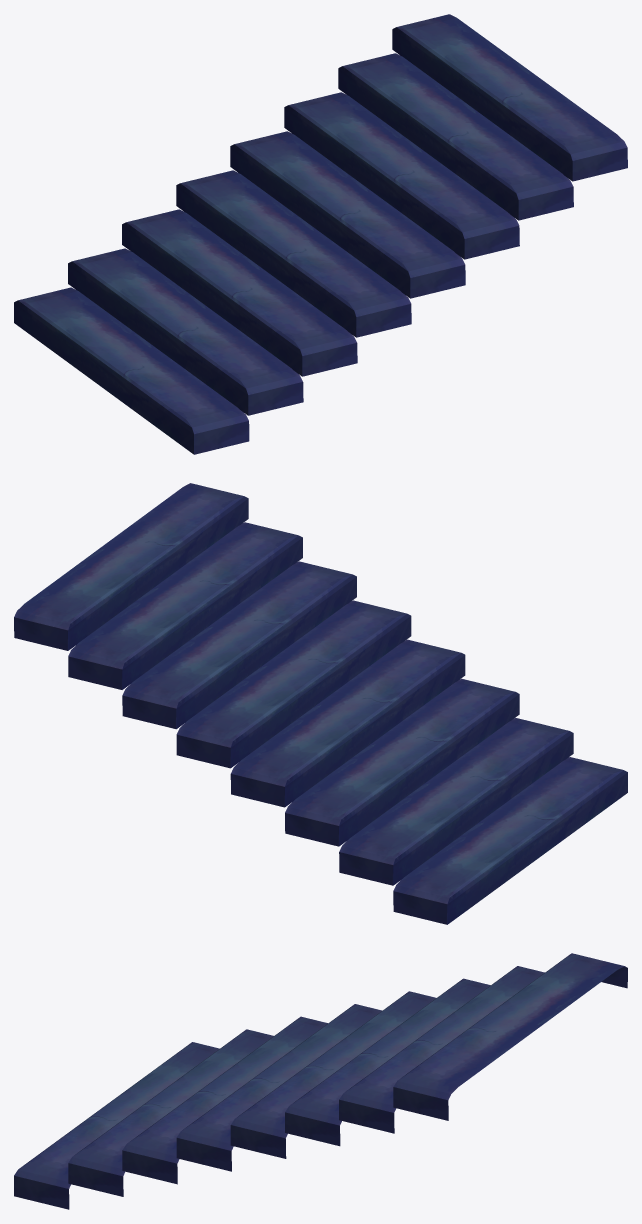
The model's file is Stairs_LongS.glb.
3 renders of one model, top to bottom at view 1: azimuth 30°, elevation 25°; view 2: azimuth 150°, elevation 25°; view 3: azimuth 330°, elevation 25°, orthographic.
Parts seen in each view (by area): view 1: Stairs Long_small.001; view 2: Stairs Long_small.001; view 3: Stairs Long_small.001.
Part boxes in pixels (x1,y1,x2,y2): Stairs Long_small.001: (14, 14, 627, 454); Stairs Long_small.001: (14, 483, 627, 924); Stairs Long_small.001: (14, 953, 627, 1209).
Size of the model in its own units: 9.14 by 4.17 by 6.57.
1 material, 1 textured.
